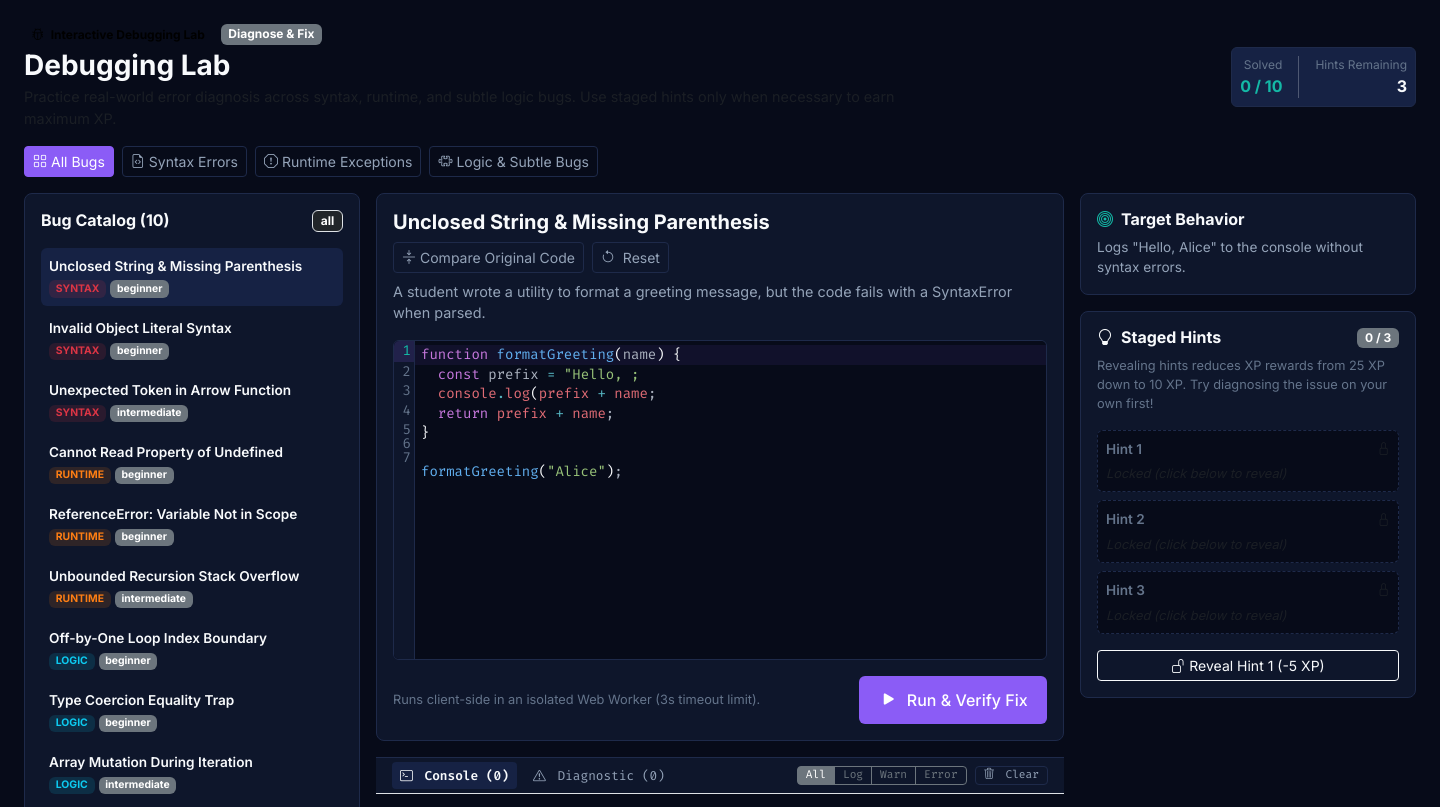
Scenario: Advanced Modules Test Suite › renders Debugging Lab with category filters and staged hints
expect the button "All Bugs" is shown: met, box [24,146,114,177]
expect the button "Syntax Errors" is shown: met, box [122,146,247,177]
Reveal hint
Click the button "Reveal Hint 1 (-5 XP)": (1248, 665) [1097,650,1399,681]
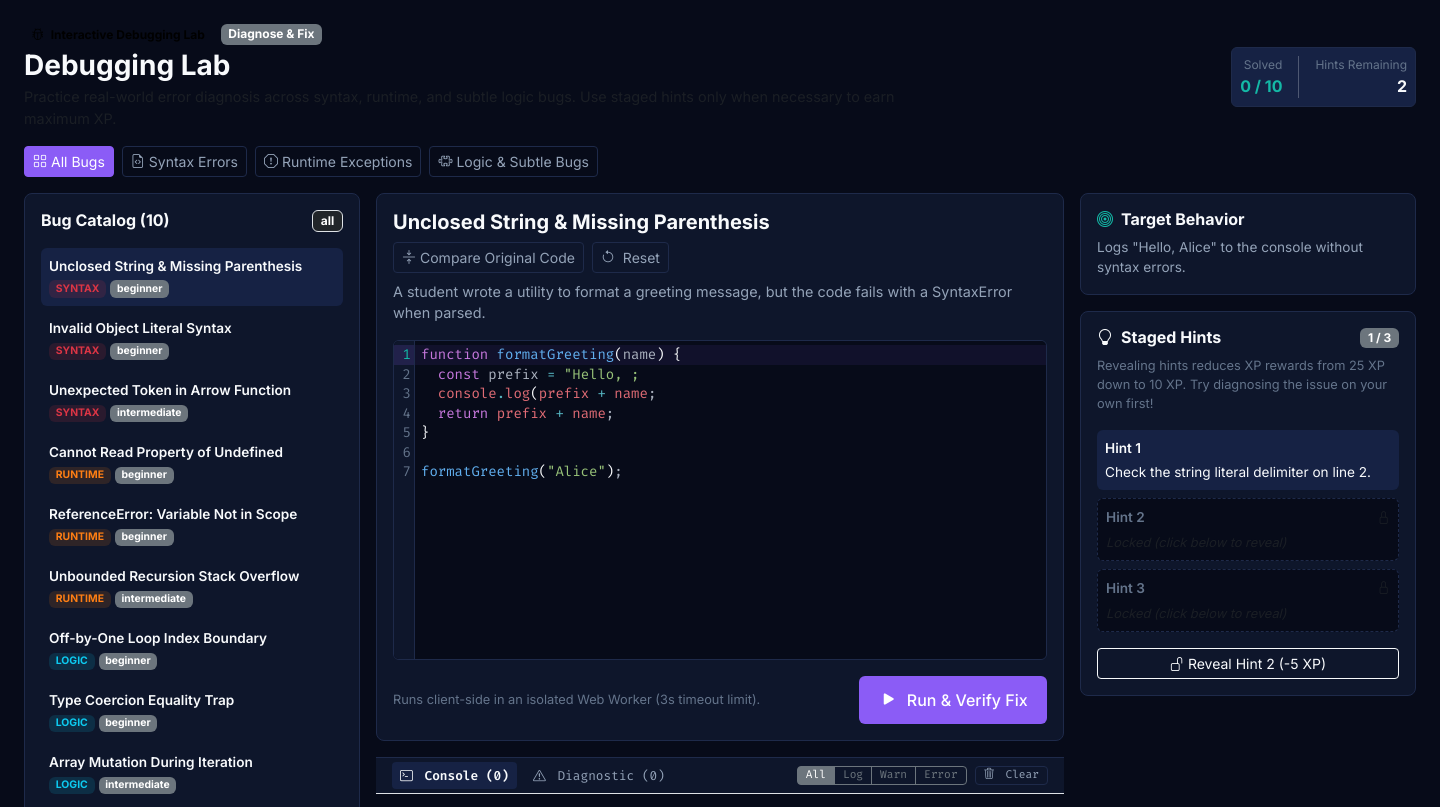
expect the text "Check the string literal delimiter on line 2." is shown: met, box [1105,464,1371,480]
